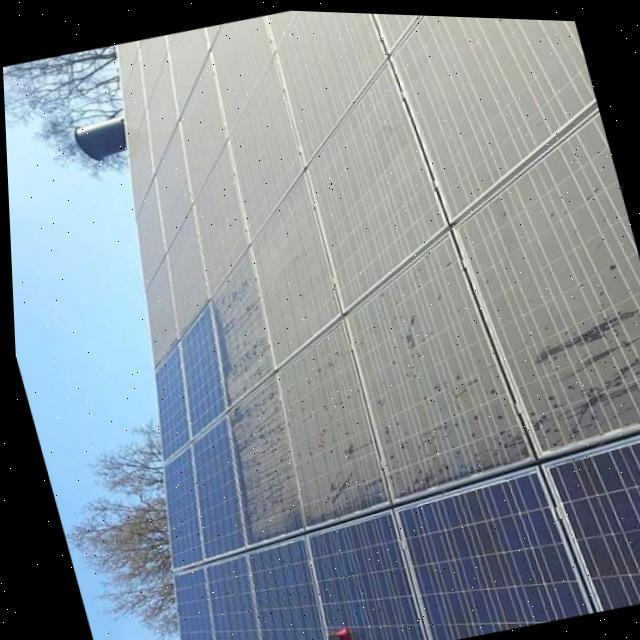Normal Solar Panel: (75, 198, 640, 640)
